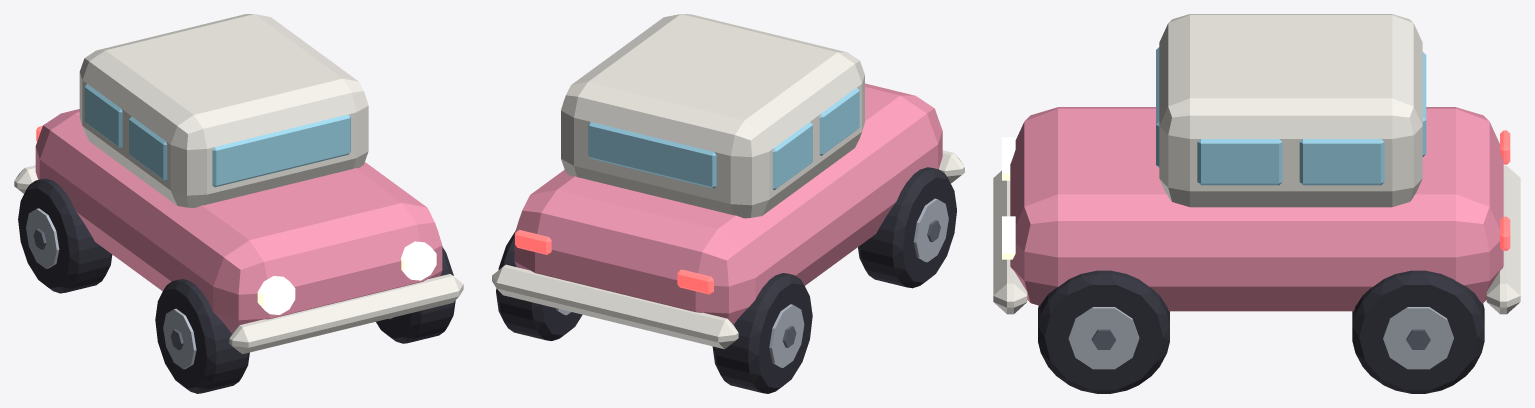
Rendered from veh_car_pink.glb.
The picture shows the model from 3 angles, left to right: view 1: azimuth 30°, elevation 25°; view 2: azimuth 150°, elevation 25°; view 3: azimuth 270°, elevation 25°; orthographic projection. The views are drawn at different scales.
Parts seen in each view (by area): view 1: veh_car_pink, wheel_fl, wheel_rl, wheel_fr; view 2: veh_car_pink, wheel_rl, wheel_fl, wheel_rr; view 3: veh_car_pink, wheel_rr, wheel_fr.
Boxes of the visible parts, x1,y1,x2,y2 form: veh_car_pink: (14, 14, 463, 353); wheel_fl: (155, 279, 249, 393); wheel_rl: (18, 178, 112, 293); wheel_fr: (376, 247, 455, 343); veh_car_pink: (492, 14, 964, 349); wheel_rl: (712, 273, 812, 393); wheel_fl: (858, 167, 956, 288); wheel_rr: (496, 231, 582, 340); veh_car_pink: (993, 14, 1520, 314); wheel_rr: (1352, 270, 1484, 393); wheel_fr: (1038, 270, 1169, 393).
Bounding box in the file's own units: 2.02 × 1.76 × 3.1.
